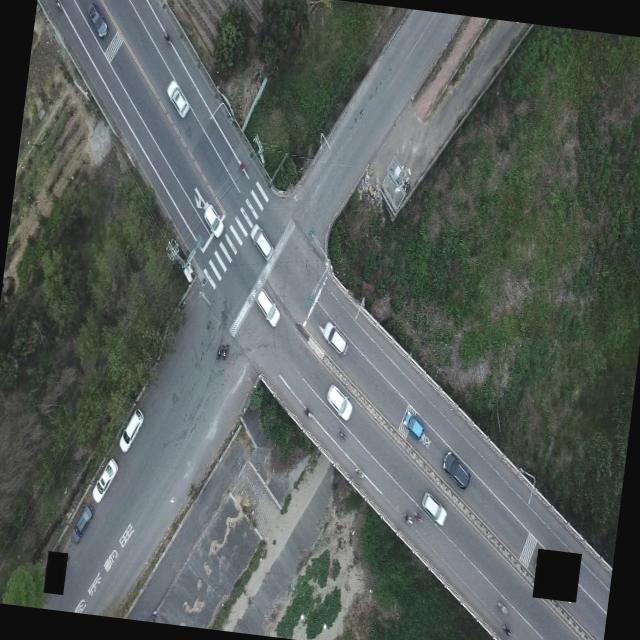bike: (398, 508, 413, 528), (496, 596, 510, 617), (498, 622, 516, 638), (354, 461, 366, 480), (336, 425, 348, 443), (300, 402, 312, 418), (216, 342, 224, 362), (222, 344, 230, 360)
car: (91, 456, 119, 504), (118, 405, 145, 454), (316, 318, 350, 356), (440, 449, 472, 489), (322, 382, 354, 422), (252, 287, 282, 328), (162, 78, 192, 118), (246, 222, 275, 260), (70, 502, 94, 546), (418, 491, 448, 526), (84, 1, 111, 38), (200, 202, 226, 238), (401, 410, 426, 440)
